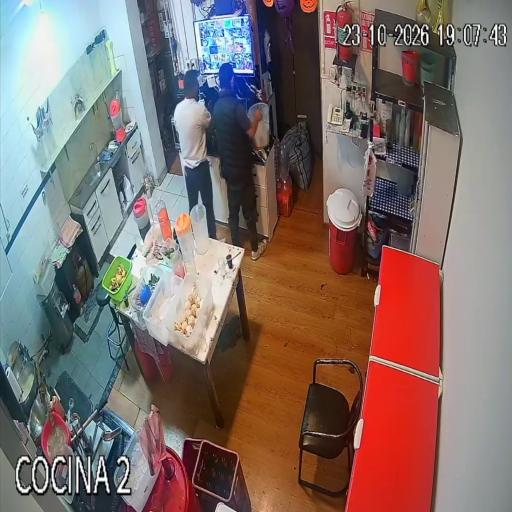Envase Ketchup: (56, 381, 65, 400)
Envase Llajua: (43, 383, 54, 402)
Jarra1: (133, 198, 149, 230)
Jarra2: (175, 214, 193, 251)
Jarra3: (193, 209, 211, 255)
Persona1: (213, 63, 267, 260)
Persona4: (174, 71, 216, 239)
Taper2: (125, 266, 169, 335)
Taper3: (143, 270, 183, 345)
Taper4: (161, 273, 214, 359)
